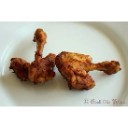chicken_lollipop: (56, 49, 124, 91), (11, 29, 57, 83)
